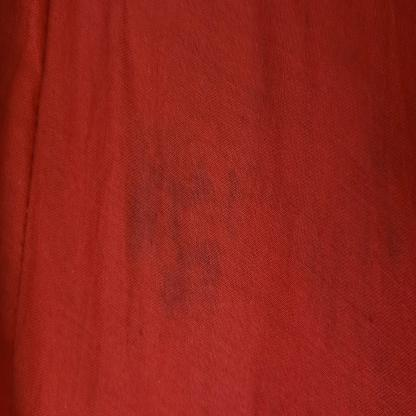spot: (108, 96, 248, 340)
